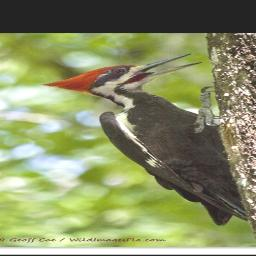Woodpecker: (41, 53, 249, 226)
